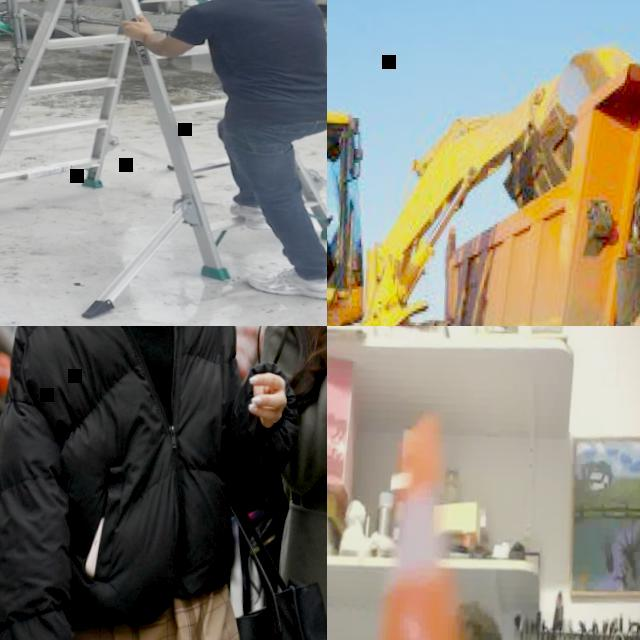machinery: (327, 4, 640, 326), (430, 25, 640, 326)
no_helmet: (453, 600, 510, 640)
no_vest: (38, 326, 245, 633), (256, 326, 327, 630), (203, 0, 327, 126)
person: (0, 326, 317, 640), (102, 0, 327, 303), (241, 326, 327, 640)
safety_cone: (333, 395, 493, 640)
